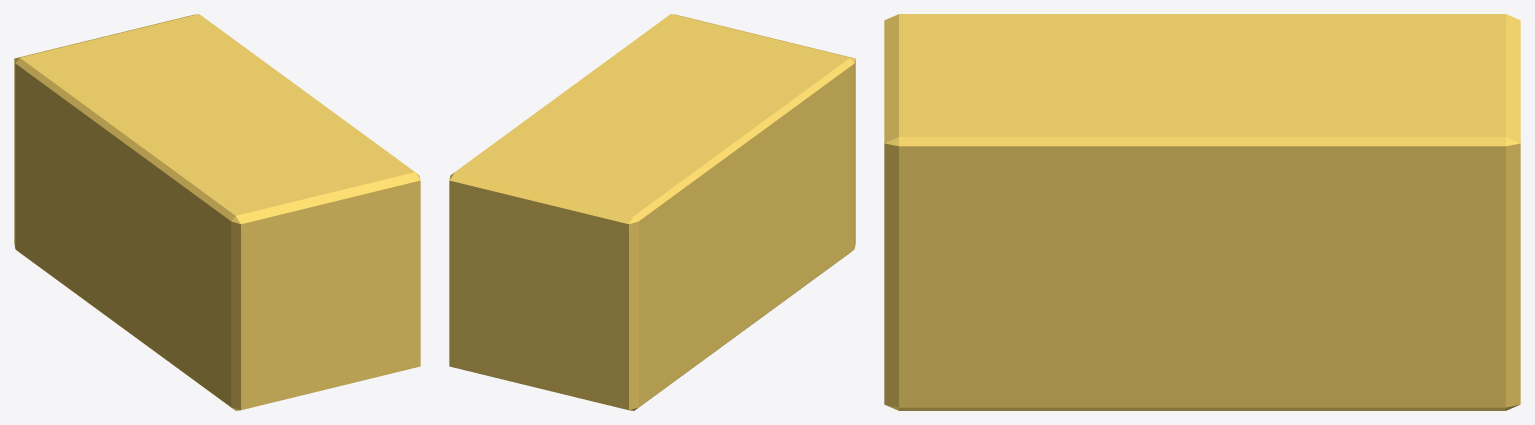
File: butter.fbx
3 views of the same model, side by side, from view 1: azimuth 30°, elevation 25°; view 2: azimuth 150°, elevation 25°; view 3: azimuth 270°, elevation 25° (orthographic). The views are drawn at different scales.
Parts seen in each view (by area): view 1: Cube.001; view 2: Cube.001; view 3: Cube.001.
Boxes of the visible parts, left/top/right/bottom form: Cube.001: left=14, top=14, right=420, bottom=410; Cube.001: left=449, top=14, right=855, bottom=410; Cube.001: left=884, top=14, right=1520, bottom=410.
Bounding box in the file's own units: 67.12 × 66.48 × 140.
